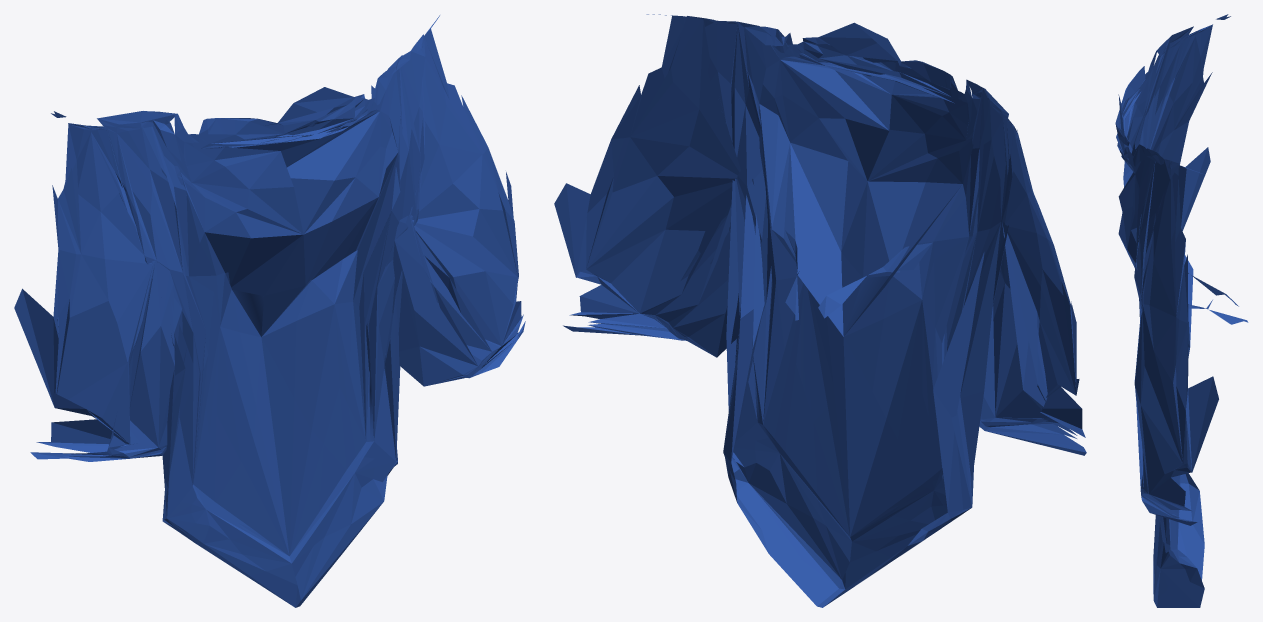
The model's file is kleidung.waffenrock.v003.glb.
3 views of the same model, side by side, from view 1: azimuth 30°, elevation 25°; view 2: azimuth 150°, elevation 25°; view 3: azimuth 270°, elevation 25° (orthographic). The views are drawn at different scales.
Parts seen in each view (by area): view 1: kleidung.waffenrock.v003.001; view 2: kleidung.waffenrock.v003.001; view 3: kleidung.waffenrock.v003.001.
Boxes of the visible parts, box(x1,y1,x2,y2) form: kleidung.waffenrock.v003.001: box(14, 15, 525, 607); kleidung.waffenrock.v003.001: box(554, 14, 1086, 607); kleidung.waffenrock.v003.001: box(1115, 14, 1248, 607).
Size of the model in its own units: 0.4192 by 0.4242 by 0.1.
